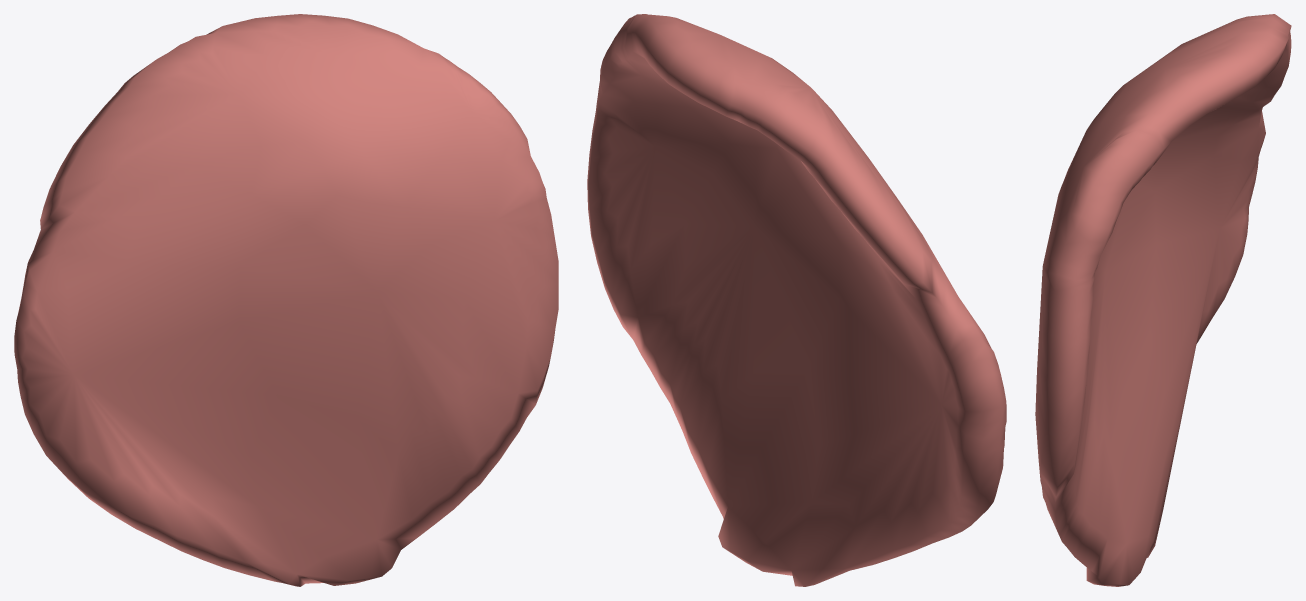
The picture shows the model from 3 angles, left to right: view 1: azimuth 30°, elevation 25°; view 2: azimuth 150°, elevation 25°; view 3: azimuth 270°, elevation 25°; orthographic projection. The views are drawn at different scales.
Visible parts, largest first — view 1: ZA_95acd1d0938f3afc; view 2: ZA_95acd1d0938f3afc; view 3: ZA_95acd1d0938f3afc.
Boxes of the visible parts, box(x1,y1,x2,y2) form: ZA_95acd1d0938f3afc: box(14, 14, 558, 586); ZA_95acd1d0938f3afc: box(587, 14, 1006, 586); ZA_95acd1d0938f3afc: box(1035, 14, 1291, 586).
Size of the model in its own units: 0.00545 by 0.00583 by 0.00253.
